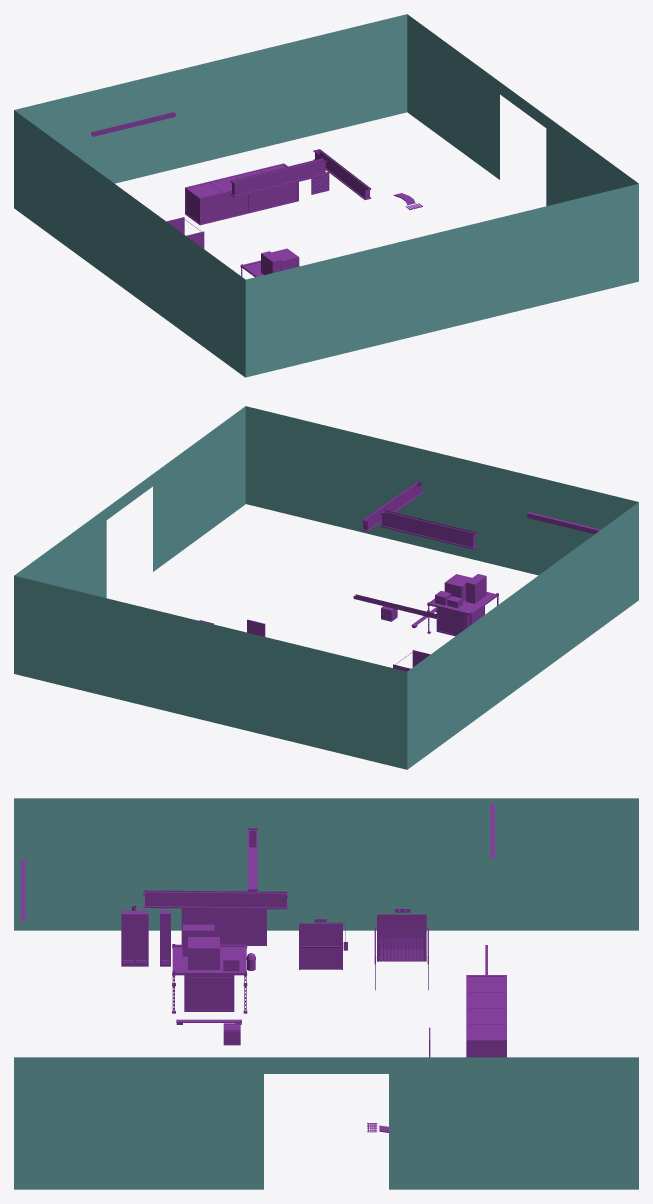
The model's file is Almacen.fbx.
3 views of the same model, one above another, from view 1: azimuth 30°, elevation 25°; view 2: azimuth 150°, elevation 25°; view 3: azimuth 270°, elevation 25° (orthographic). The views are drawn at different scales.
Visible parts, largest first — view 1: PIPA3, PIPA4, PIPA2, PIPA5, PIPA8, Caja_grande, Barrote1, Barrote2, PIPA6; view 2: PIPA4, PIPA3, PIPA2, PIPA8, PIPA5, Barrote1, Barrote2, Caja_grande2, Estante_cajas, PIPA6; view 3: PIPA2, PIPA5, PIPA8, Caja_grande, Barrote2, Puerta_cajas, Pizarron, Puerta_deco, PIPA6, Caja_grande2, Locker_doble, Estante_cajas (+3 smaller).
Boxes of the visible parts, x1,y1,x2,y2 form: PIPA3: (245,183,638,377); PIPA4: (14,14,407,183); PIPA2: (14,110,245,377); PIPA5: (407,14,499,179); PIPA8: (546,116,638,206); Caja_grande: (185,163,298,225); Barrote1: (230,158,326,197); Barrote2: (313,149,371,199); PIPA6: (500,82,546,127); PIPA4: (14,575,407,769); PIPA3: (245,406,638,575); PIPA2: (407,502,638,769); PIPA8: (153,406,245,571); PIPA5: (14,508,106,598); Barrote1: (380,510,477,549); Barrote2: (361,481,423,531); Caja_grande2: (436,606,484,636); Estante_cajas: (427,592,498,633); PIPA6: (106,474,152,519); PIPA2: (14,798,638,930); PIPA5: (389,1057,638,1189); PIPA8: (14,1057,263,1189); Caja_grande: (466,975,506,1057); Barrote2: (143,890,288,909); Puerta_cajas: (377,914,426,961); Pizarron: (181,908,266,945); Puerta_deco: (299,919,347,969); PIPA6: (264,1057,388,1073); Caja_grande2: (184,975,234,1011); Locker_doble: (121,910,148,966); Estante_cajas: (172,944,247,1013).
Size of the model in its own units: 47.41 by 13.12 by 48.37.
